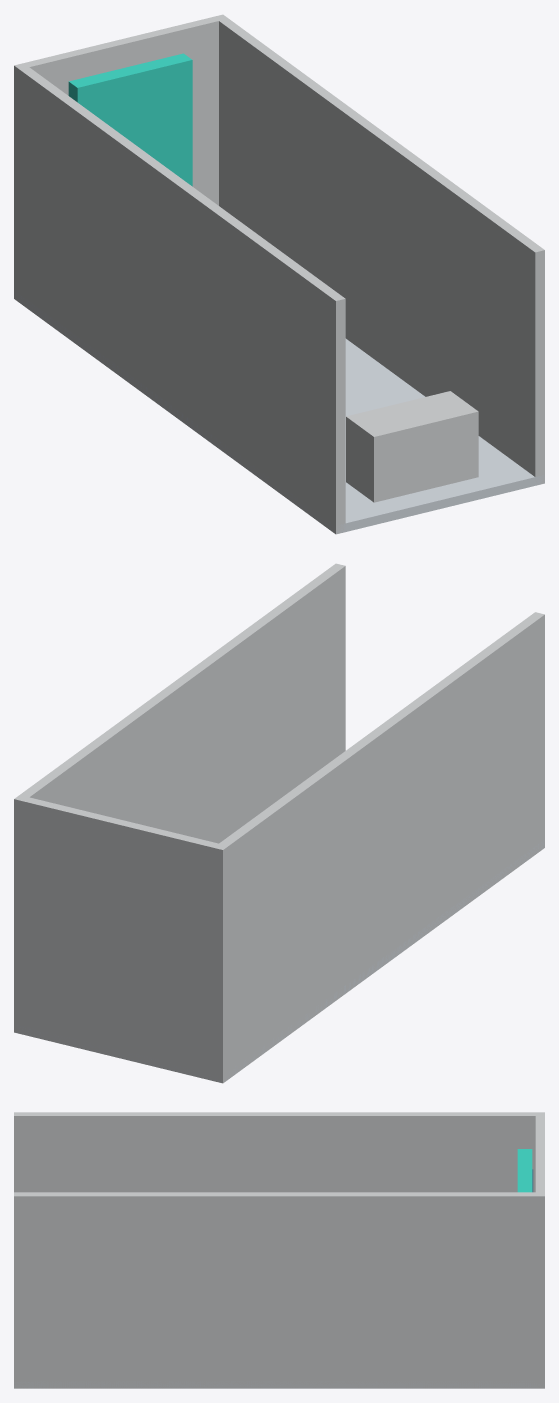
3 views of the same model, one above another, from view 1: azimuth 30°, elevation 25°; view 2: azimuth 150°, elevation 25°; view 3: azimuth 270°, elevation 25° (orthographic). The views are drawn at different scales.
Visible parts, largest first — view 1: Exhibition Booth Concept; view 2: Exhibition Booth Concept; view 3: Exhibition Booth Concept.
Part boxes in pixels (<box>): Exhibition Booth Concept: <box>14,14,544,534</box>; Exhibition Booth Concept: <box>14,563,544,1083</box>; Exhibition Booth Concept: <box>14,1112,544,1388</box>.
Size of the model in its own units: 3 by 3.2 by 8.
